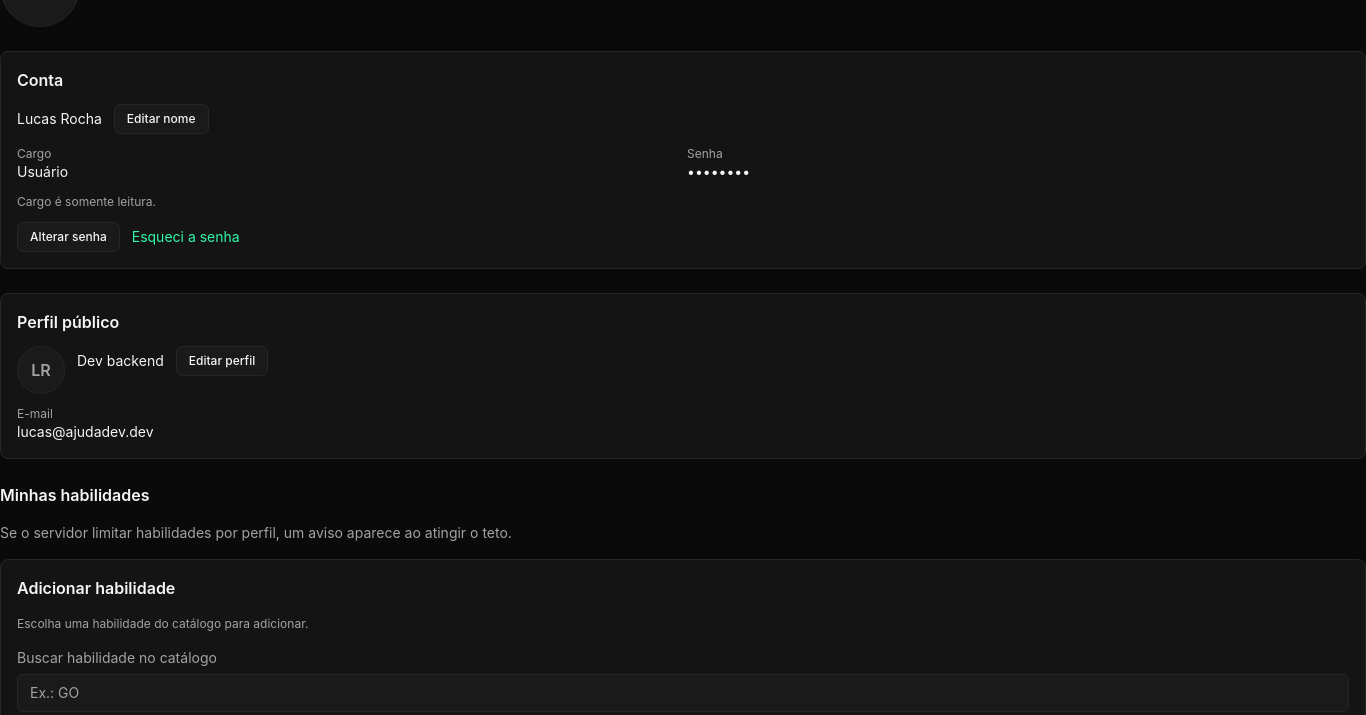
MyProfilePage › adicionar habilidade usa o id da sessão e recarrega a lista
Type "GO" into the field labelled "Buscar habilidade no catálogo" at (683, 693), box [17,674,1349,712]
(page scrolled)
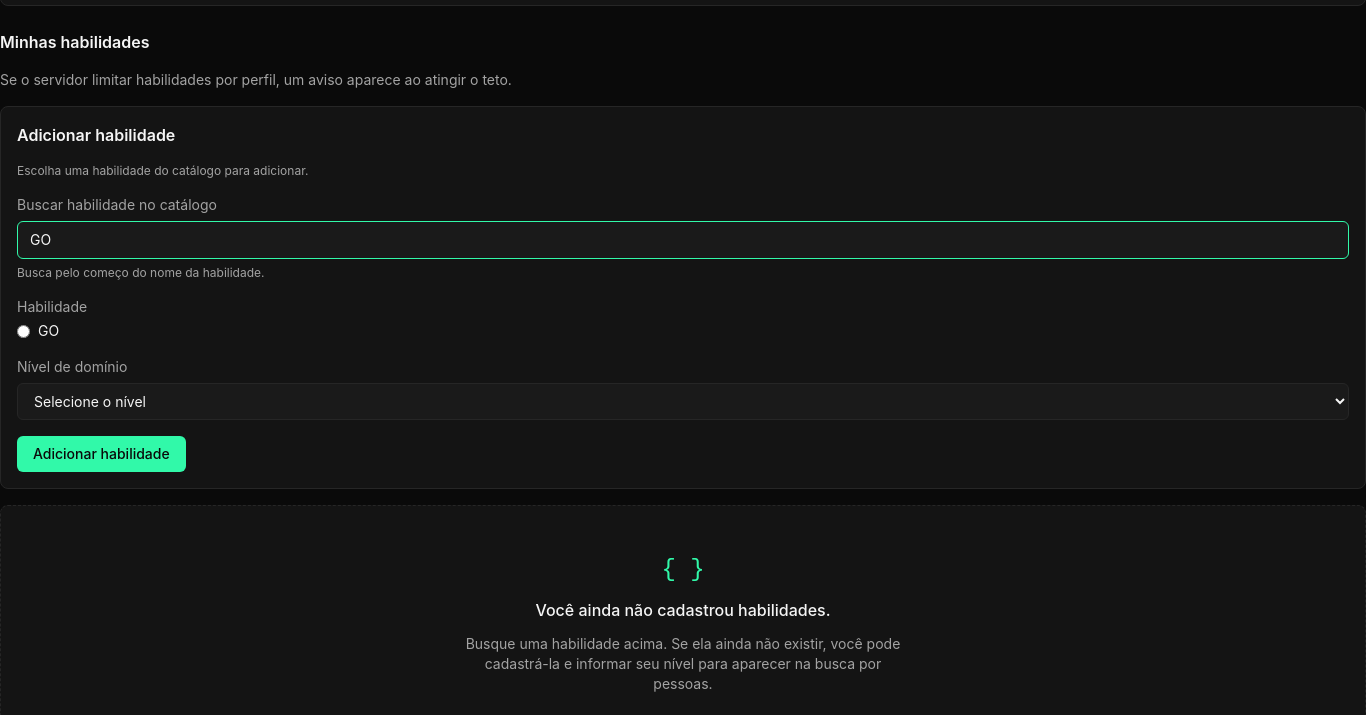
Click the radio button labelled "GO" at (24, 331), box [17,324,30,338]
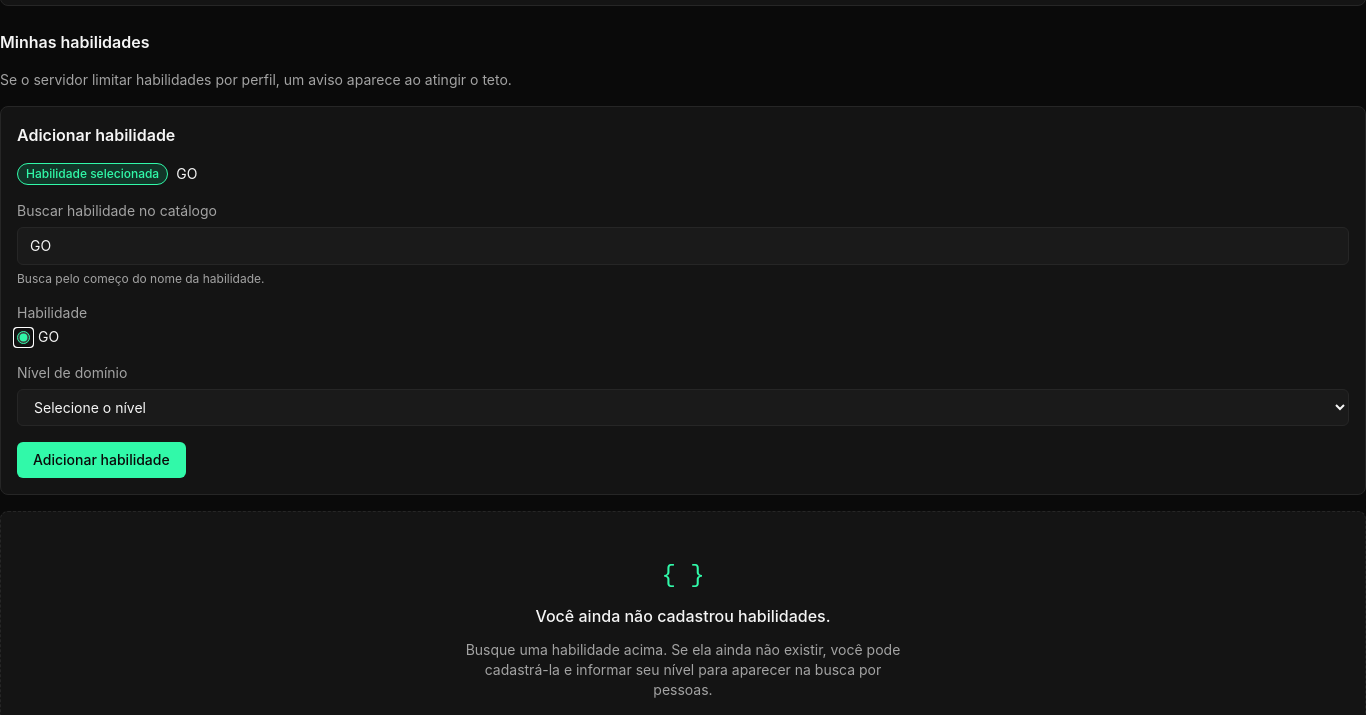
Select "Ensinar" in the dropdown labelled "Nível de domínio" at (683, 408), box [17,389,1349,426]
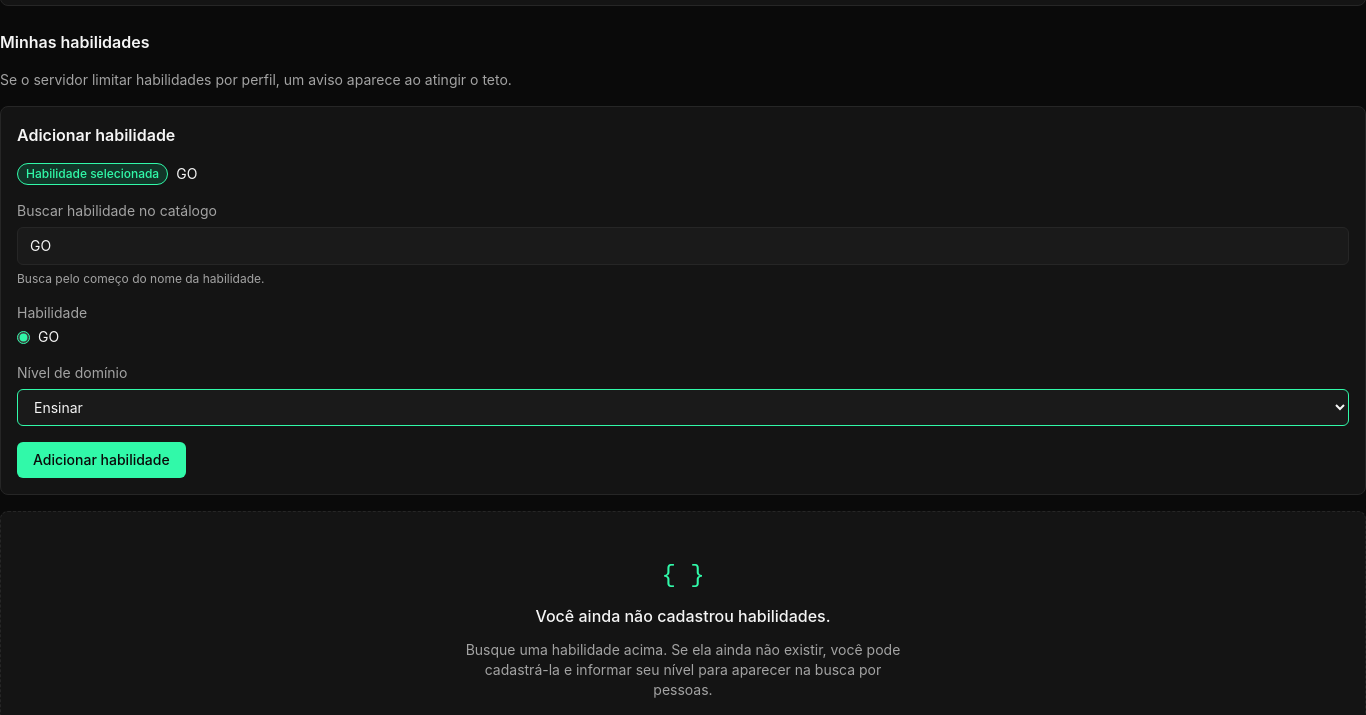
Click the button "Adicionar habilidade" at (101, 460), box [17,442,186,478]
(page scrolled)
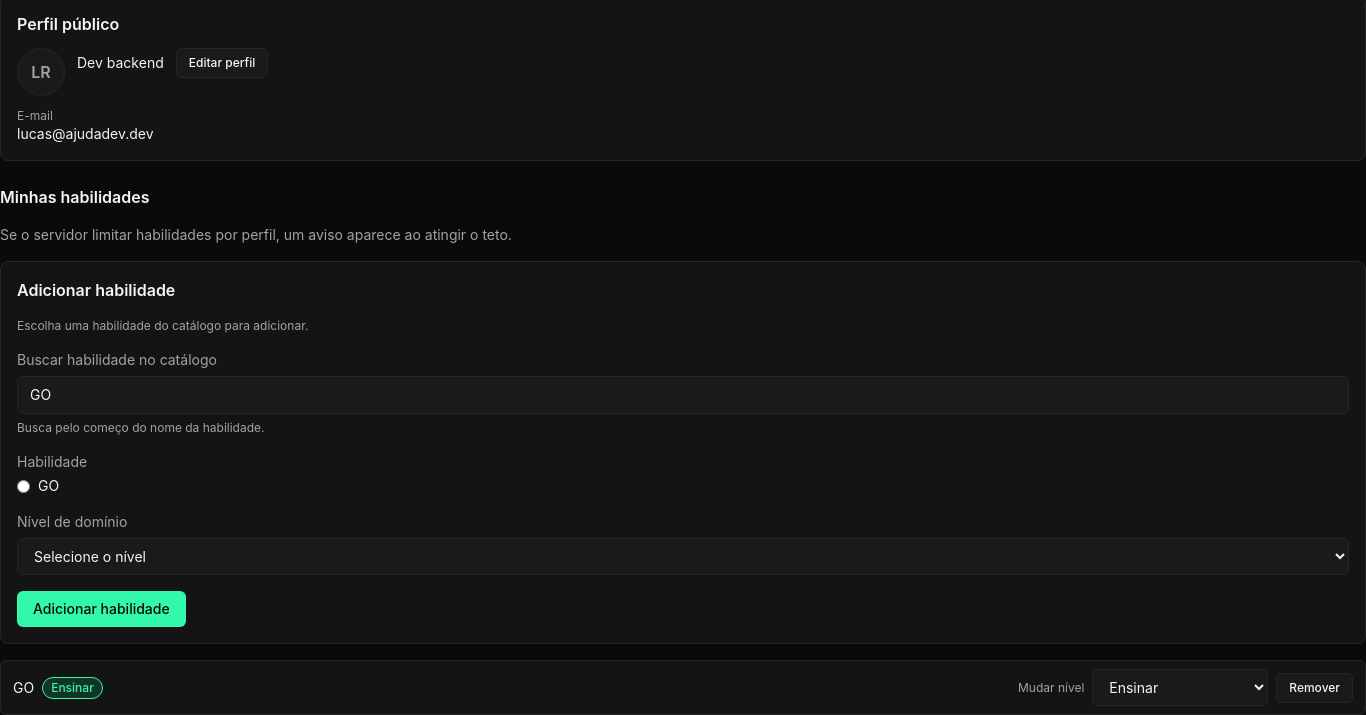
Now the dropdown labelled "Mudar nível" shows "Ensinar", box [1092,669,1268,706]
